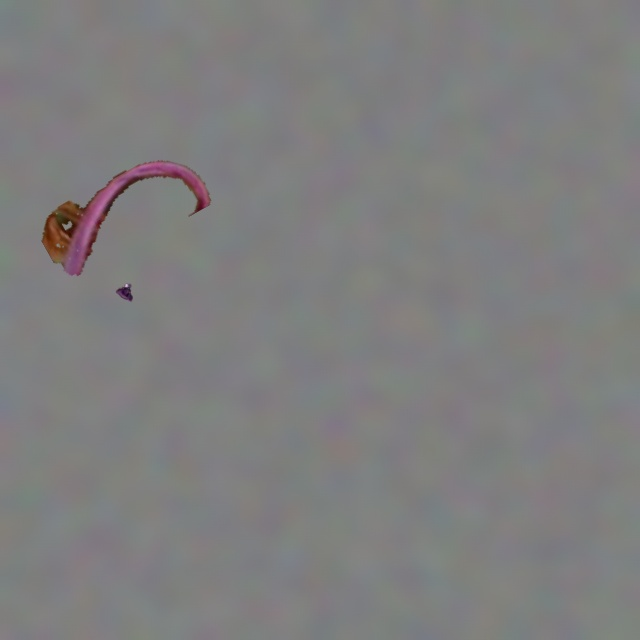butterfly flower: (116, 284, 132, 300)
cape flower: (42, 161, 210, 275)
